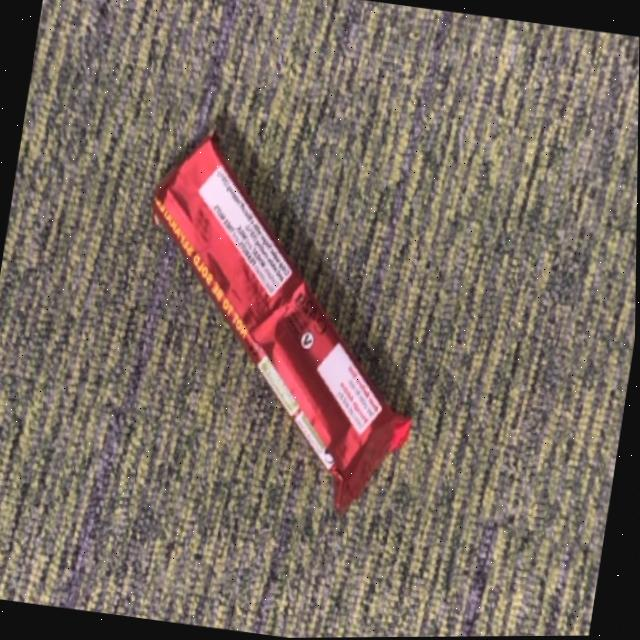chocolate: (93, 108, 458, 541)
